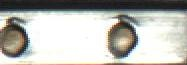joints: (103, 12, 142, 61), (0, 15, 31, 59)
